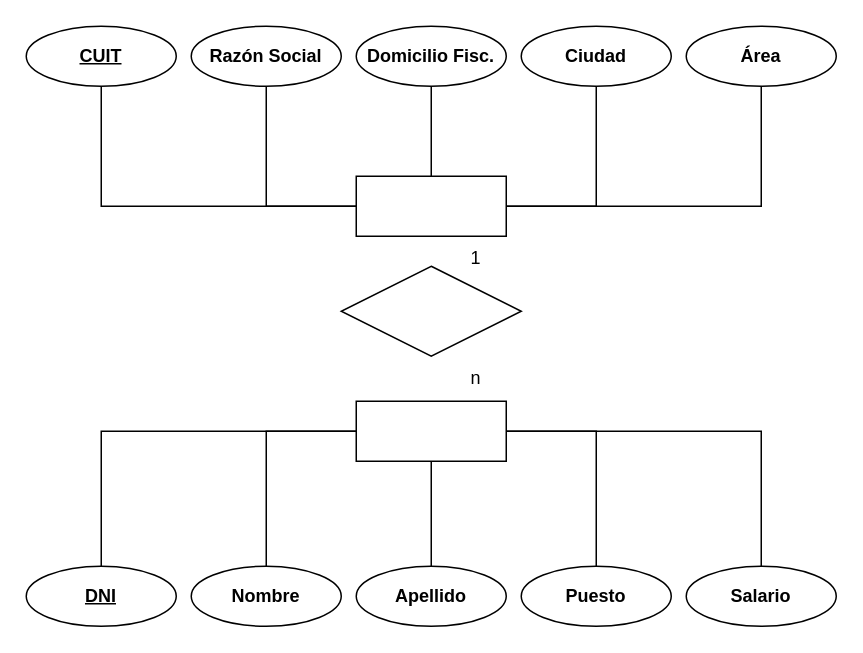
Some shapes in this 863 by 653 pixel diagram are drawn without their labels. The shapes that lost their labels are listed below. From the top down, each one's centre as x and y in pixels, then its label:
pixel 430 205: Empresa
pixel 430 310: Contrata
pixel 430 430: Empleado
